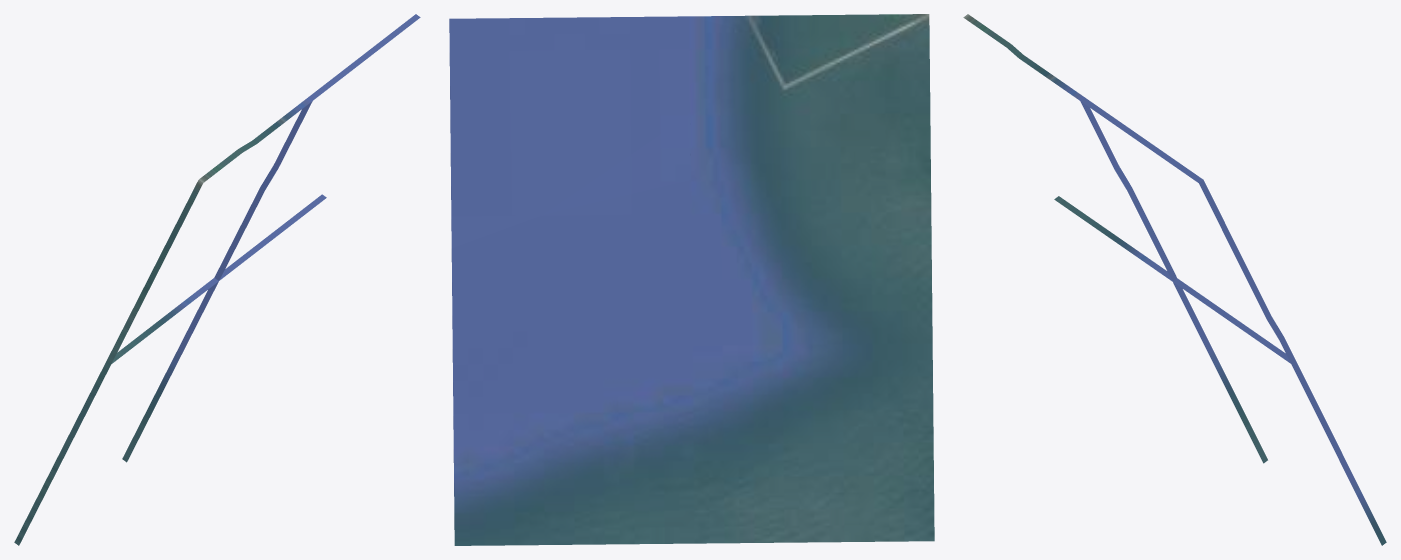
3 views of the same model, side by side, from view 1: azimuth 30°, elevation 25°; view 2: azimuth 150°, elevation 25°; view 3: azimuth 270°, elevation 25° (orthographic). The views are drawn at different scales.
Size of the model in its own units: 2451 by 2218 by 2060.
1 material, 1 textured.
